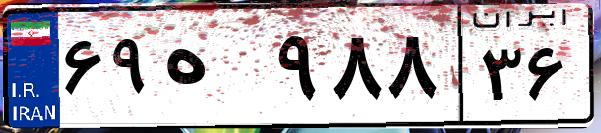3: (475, 38, 525, 113)
6: (57, 26, 110, 100), (525, 38, 570, 115)
8: (385, 28, 445, 110), (330, 28, 385, 110)
9: (270, 28, 330, 110), (110, 28, 158, 98)
ه: (158, 20, 270, 120)
